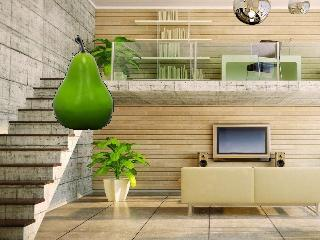pear: (54, 35, 114, 131)
